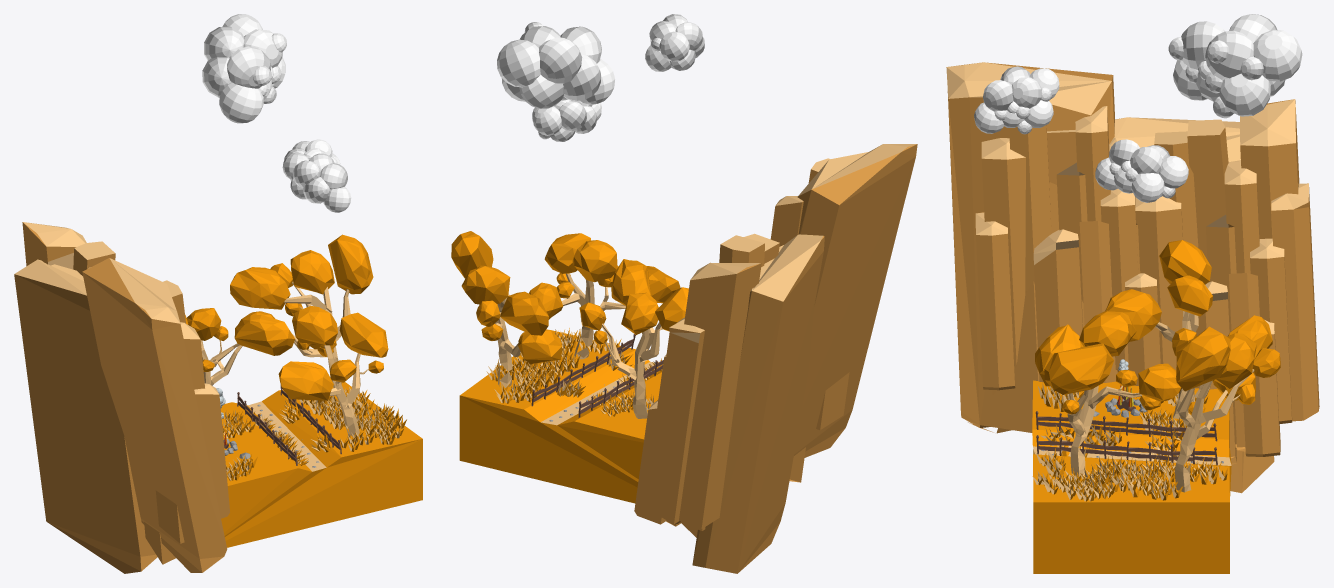
Rendered from 秋天山.glb.
3 views of the same model, side by side, from view 1: azimuth 30°, elevation 25°; view 2: azimuth 150°, elevation 25°; view 3: azimuth 270°, elevation 25° (orthographic). The views are drawn at different scales.
Visible parts, largest first — view 1: Node; view 2: Node; view 3: Node.
Part boxes in pixels (bbox=[...]): Node: bbox=[14, 14, 422, 573]; Node: bbox=[451, 14, 917, 573]; Node: bbox=[946, 14, 1319, 573].
Bounding box in the file's own units: 4.83 × 6.6 × 4.05.
Materials: 1 (1 with a texture image).
